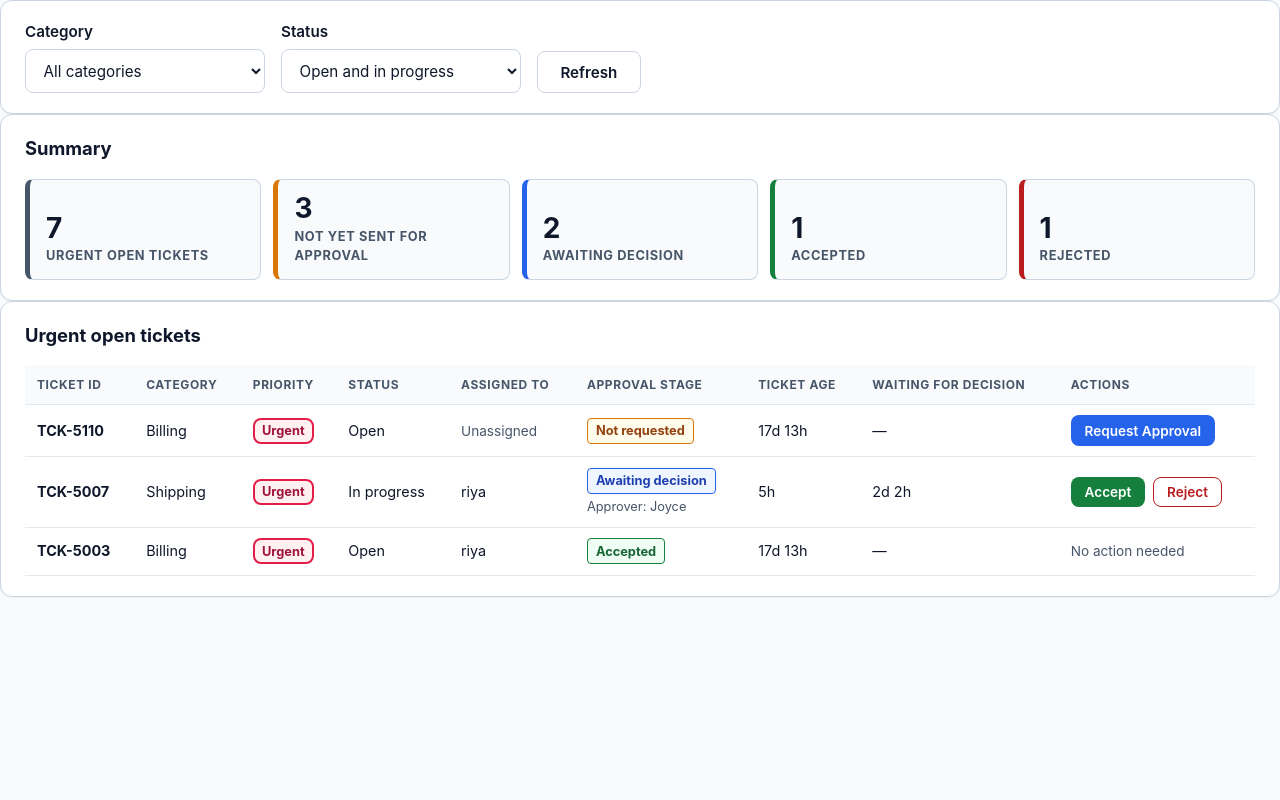
Test: Escalation Tracker › records an Accept decision after validating the decision-maker name
This screenshot has width=1280, height=800.
Check: the row with test id "ticket-row-TCK-5110" is shown, box [25,405,1255,457]
Click the button with aria-label "Accept TCK-5007" at (1108, 492), box [1071,477,1145,508]
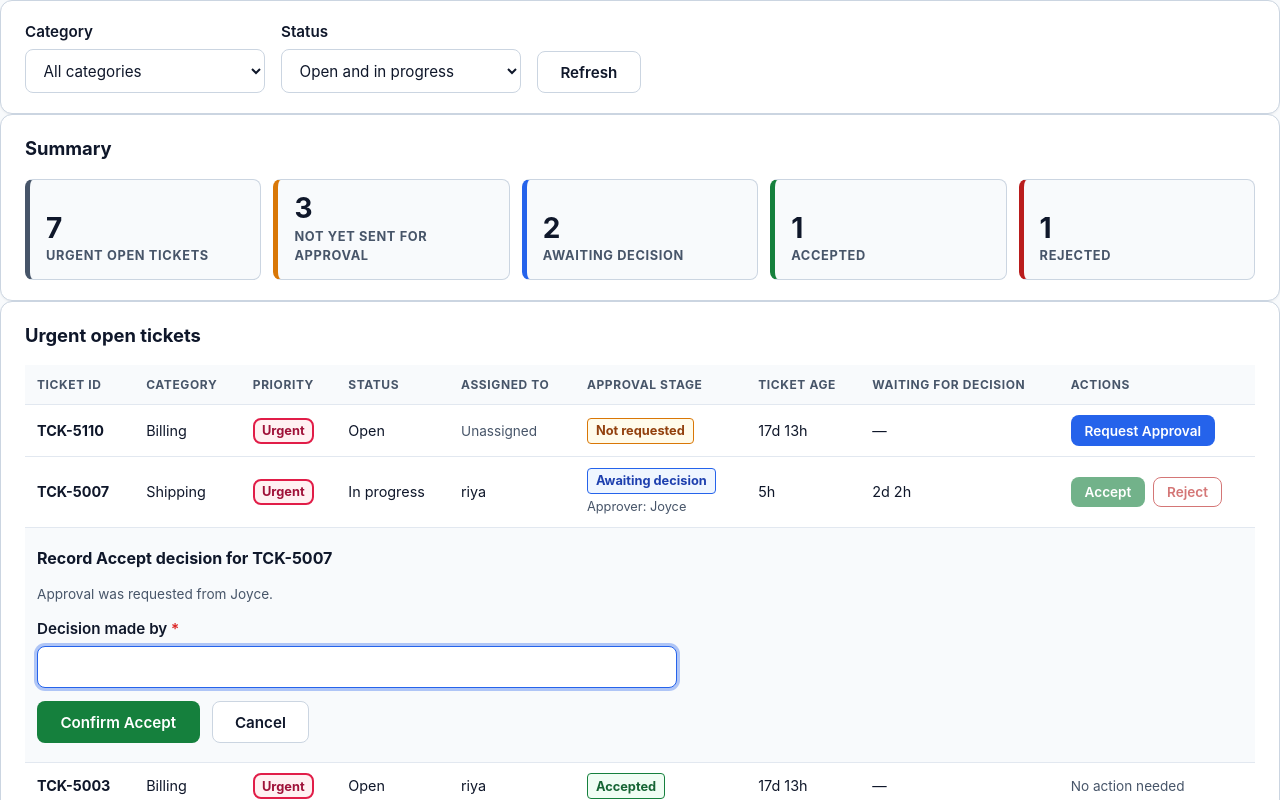
Check: the form "Record Accept decision for TCK-5007" shows "Approval was requested from Joyce.", box [37,538,677,751]
Click the button "Confirm Accept" at (118, 722), box [37,701,200,743]
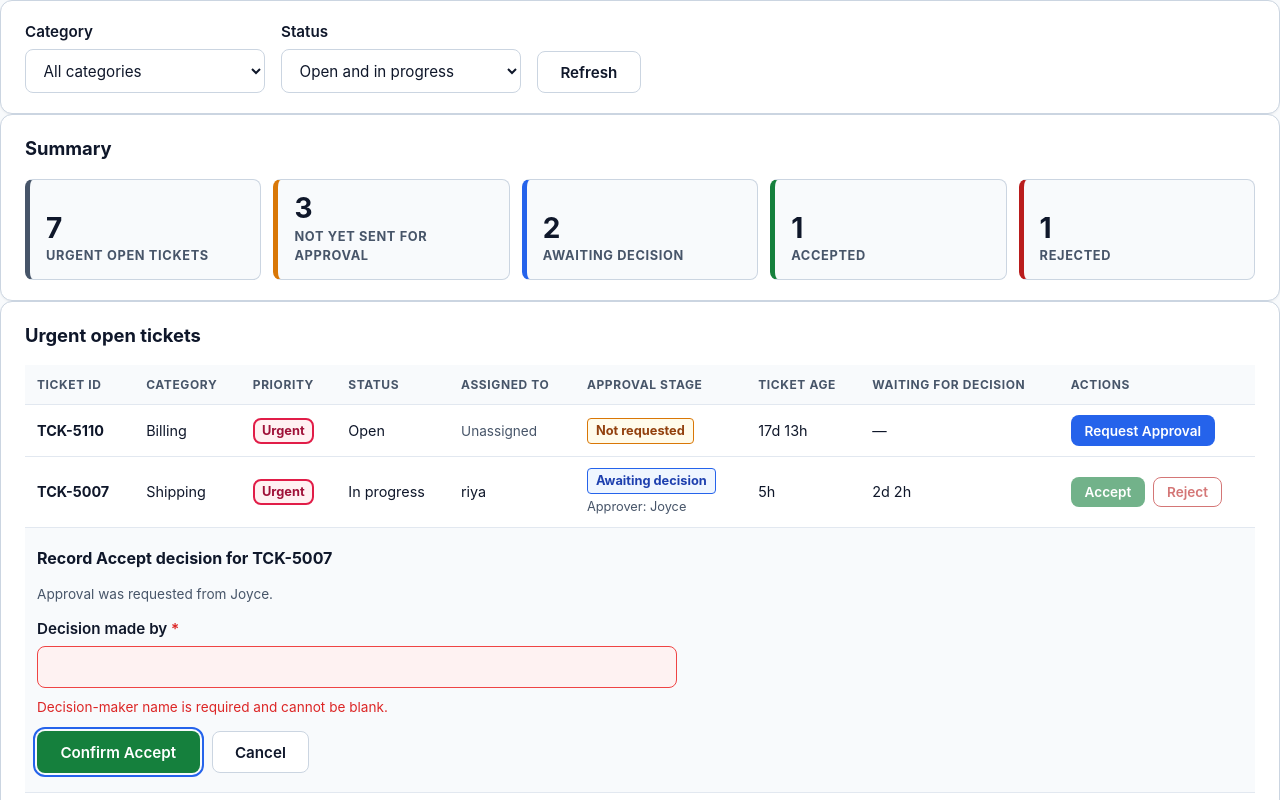
Check: the message shows "Decision-maker name is required", box [37,699,388,715]
Type "Joyce" into the field labelled "Decision made by *" at (357, 667), box [37,646,677,688]
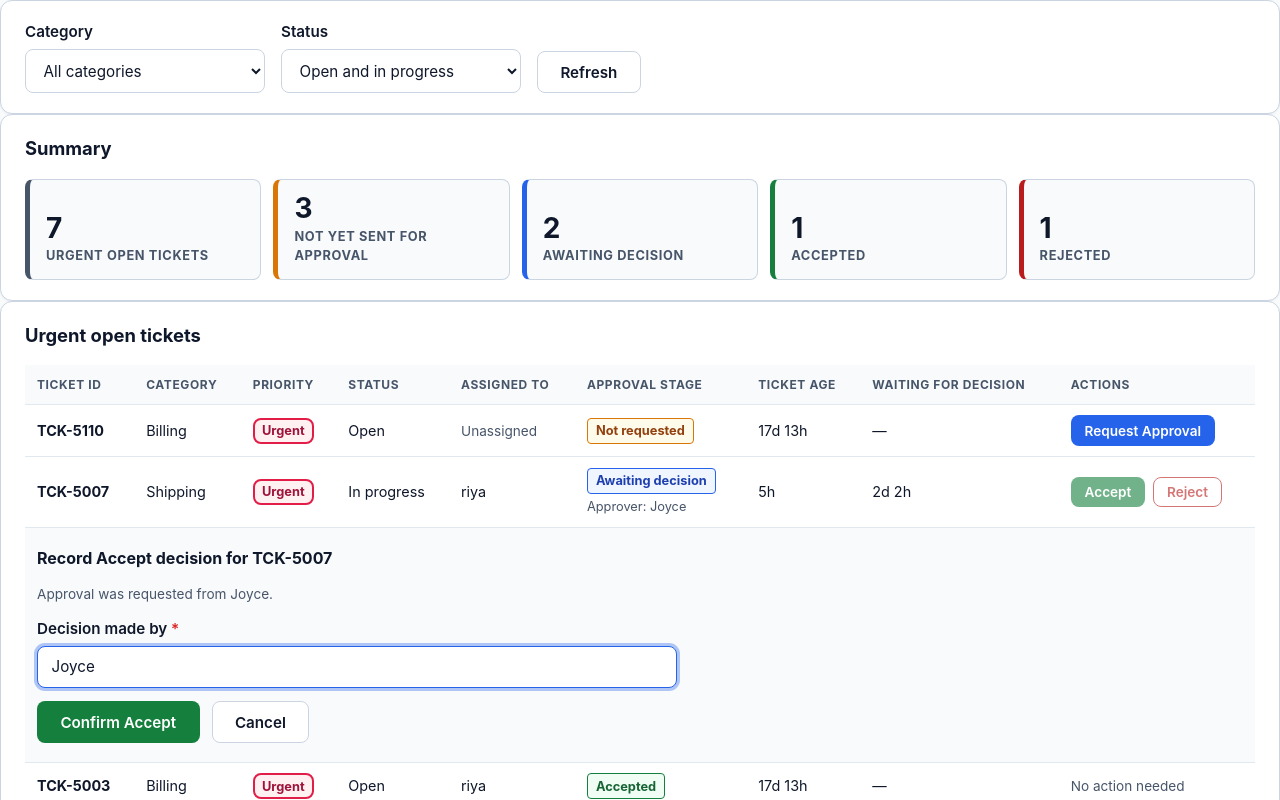
Click the button "Confirm Accept" at (118, 722), box [37,701,200,743]
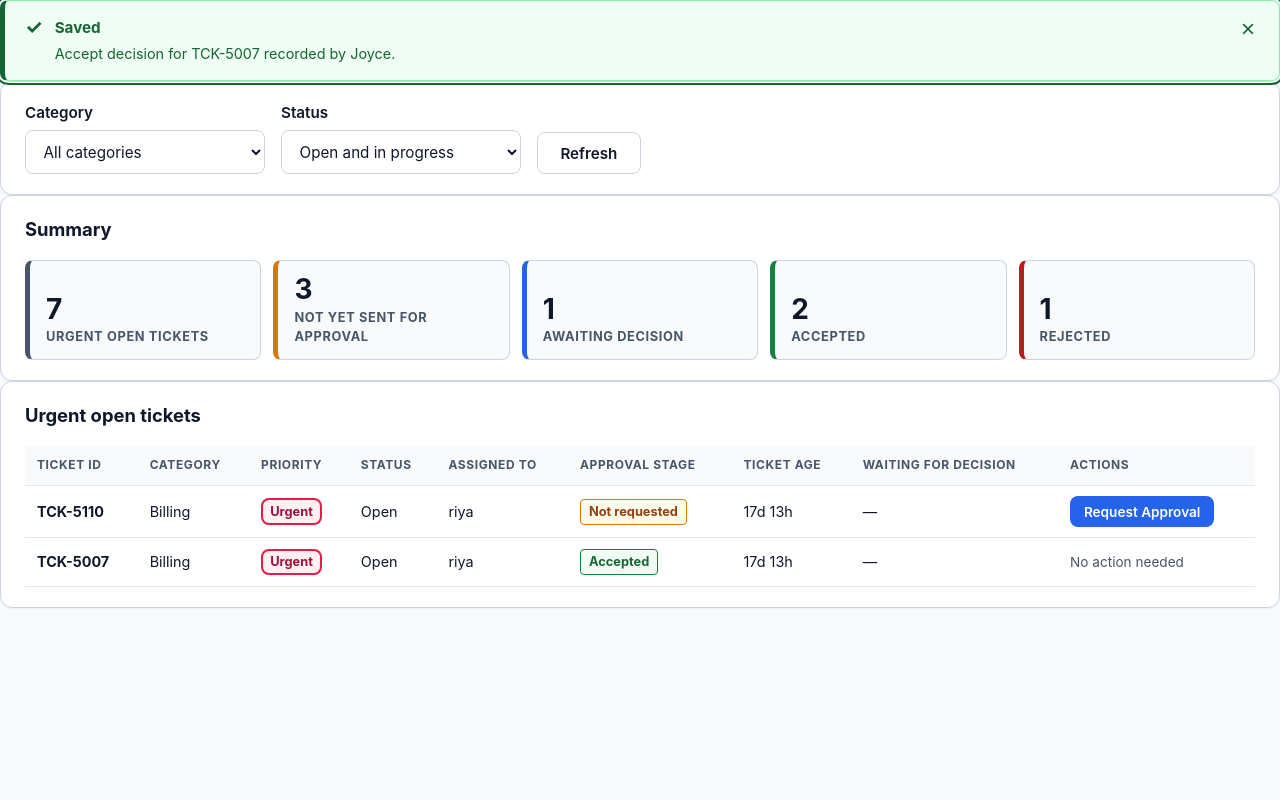
Check: the row with test id "ticket-row-TCK-5007" shows "Accepted", box [589,554,649,569]
Check: the text "Accept decision for TCK-5007 recorded by Joyce." is shown, box [55,45,395,62]
Check: the element with test id "stat-accepted" shows "2", box [791,292,809,326]
